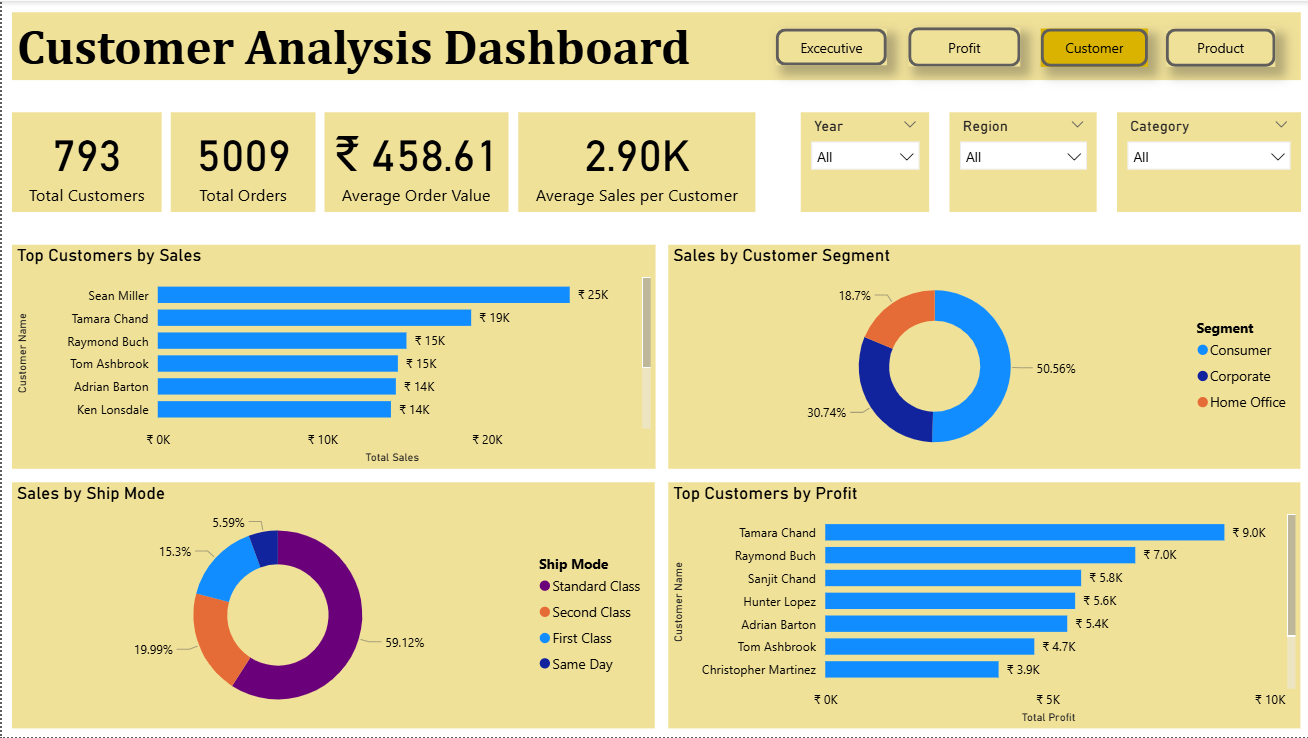

Layout of this report page (visuals, bound fields, positions):
{"tool":"powerbi","page":{"name":"Page 3","canvas":[1280,720],"ordinal":2},"visuals":[{"type":"textbox","box":[9.8,11,1260.7,66],"z":0},{"type":"card","fields":{"Values":["superstore_final.Total Customers"]},"box":[9.8,108.8,146.7,97.8],"z":1000},{"type":"card","fields":{"Values":["superstore_final.Total Orders"]},"box":[165.1,108.8,141.8,97.8],"z":2000},{"type":"card","fields":{"Values":["superstore_final.Average Order Value"]},"box":[315.5,108.8,179.8,97.8],"z":3000},{"type":"clusteredBarChart","title":"Top Customers by Sales","fields":{"Category":["superstore_final.Customer Name"],"Y":["superstore_final.Total Sales"]},"box":[9.8,238.5,629.8,218.9],"z":4000},{"type":"donutChart","title":"Sales by Customer Segment","fields":{"Category":["superstore_final.Segment"],"Y":["superstore_final.Total Sales"]},"box":[651.8,238.5,618.8,218.9],"z":5000},{"type":"donutChart","title":"Sales by Ship Mode","fields":{"Category":["superstore_final.Ship Mode"],"Y":["superstore_final.Total Sales"]},"box":[9.8,470.8,628.5,240.9],"z":6000},{"type":"clusteredBarChart","title":"Top Customers by  Profit","fields":{"Category":["superstore_final.Customer Name"],"Y":["superstore_final.Total Profit"]},"box":[651.8,470.8,618.8,240.9],"z":7000},{"type":"slicer","fields":{"Values":["superstore_final.Order Date.Variation.Date Hierarchy.Year"]},"box":[781.4,108.8,126,97.8],"z":8000},{"type":"slicer","fields":{"Values":["superstore_final.Region"]},"box":[926.9,108.8,144.3,97.8],"z":9000},{"type":"slicer","fields":{"Values":["superstore_final.Category"]},"box":[1090.8,108.8,179.8,97.8],"z":10000},{"type":"card","fields":{"Values":["superstore_final.Average Sales per Customer"]},"box":[505,108.8,232.3,97.8],"z":11000},{"type":"actionButton","box":[1138.8,27,107.4,37.4],"z":11001},{"type":"actionButton","box":[886.7,25.8,109.8,38.6],"z":11002},{"type":"actionButton","box":[1015.8,27,105,37.4],"z":11003},{"type":"actionButton","box":[756.4,27,108.6,36.2],"z":11004}]}

Visuals, with their boxes in screenshot pixels (x1, y1, x2, y2), scaled from the page's 1280x720 canvas onto the 1308x738 screenshot:
textbox: {"left": 10, "top": 11, "right": 1298, "bottom": 79}
card - superstore_final.Total Customers: {"left": 10, "top": 112, "right": 160, "bottom": 212}
card - superstore_final.Total Orders: {"left": 169, "top": 112, "right": 314, "bottom": 212}
card - superstore_final.Average Order Value: {"left": 322, "top": 112, "right": 506, "bottom": 212}
"Top Customers by Sales" clusteredBarChart: {"left": 10, "top": 244, "right": 654, "bottom": 469}
"Sales by Customer Segment" donutChart: {"left": 666, "top": 244, "right": 1298, "bottom": 469}
"Sales by Ship Mode" donutChart: {"left": 10, "top": 483, "right": 652, "bottom": 729}
"Top Customers by  Profit" clusteredBarChart: {"left": 666, "top": 483, "right": 1298, "bottom": 729}
slicer - superstore_final.Order Date.Variation.Date Hierarchy.Year: {"left": 798, "top": 112, "right": 927, "bottom": 212}
slicer - superstore_final.Region: {"left": 947, "top": 112, "right": 1095, "bottom": 212}
slicer - superstore_final.Category: {"left": 1115, "top": 112, "right": 1298, "bottom": 212}
card - superstore_final.Average Sales per Customer: {"left": 516, "top": 112, "right": 753, "bottom": 212}
actionButton: {"left": 1164, "top": 28, "right": 1273, "bottom": 66}
actionButton: {"left": 906, "top": 26, "right": 1018, "bottom": 66}
actionButton: {"left": 1038, "top": 28, "right": 1145, "bottom": 66}
actionButton: {"left": 773, "top": 28, "right": 884, "bottom": 65}
